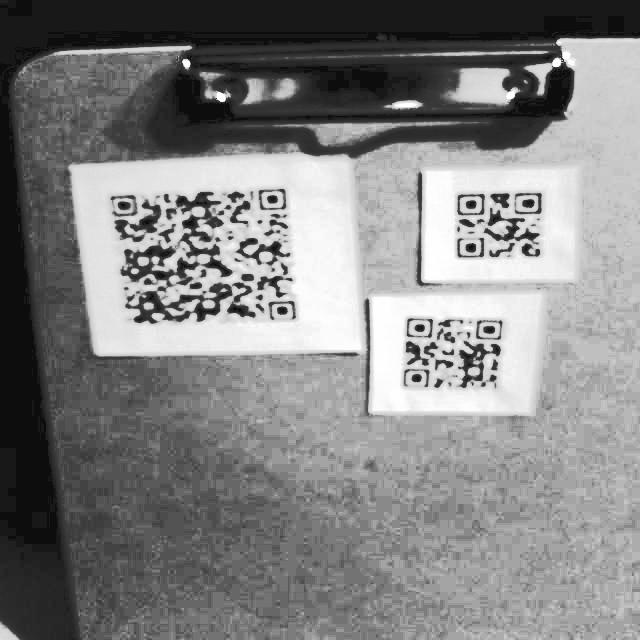qr_code: (95, 160, 316, 332), (386, 299, 518, 407), (437, 177, 566, 266)
